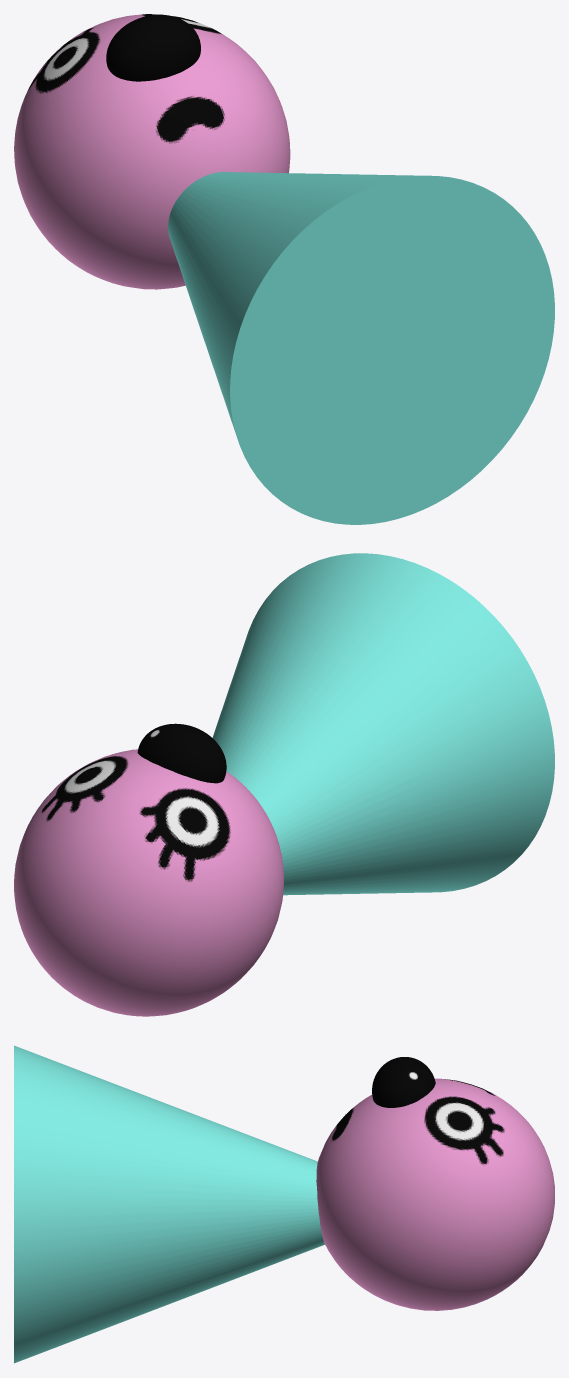
File: girl.fbx
3 renders of one model, top to bottom at view 1: azimuth 30°, elevation 25°; view 2: azimuth 150°, elevation 25°; view 3: azimuth 270°, elevation 25°, orthographic. The views are drawn at different scales.
Parts seen in each view (by area): view 1: root (×3); view 2: root (×3); view 3: root (×3).
Part boxes in pixels (left/top/right/bottom): root (×3): left=14, top=14, right=554, bottom=524; root (×3): left=14, top=553, right=554, bottom=1016; root (×3): left=14, top=1045, right=554, bottom=1363.
Bounding box in the file's own units: 0.144 × 0.144 × 0.245.
3 materials, 3 textured.
